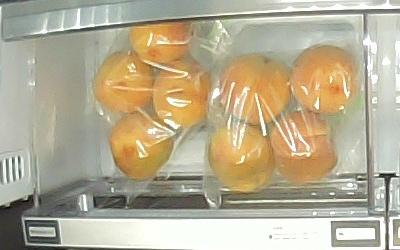peach_vinyl: (219, 54, 291, 128), (289, 44, 358, 116), (270, 110, 338, 183), (107, 110, 174, 180), (208, 125, 274, 194), (153, 59, 213, 128), (92, 51, 155, 114), (130, 22, 194, 65)
